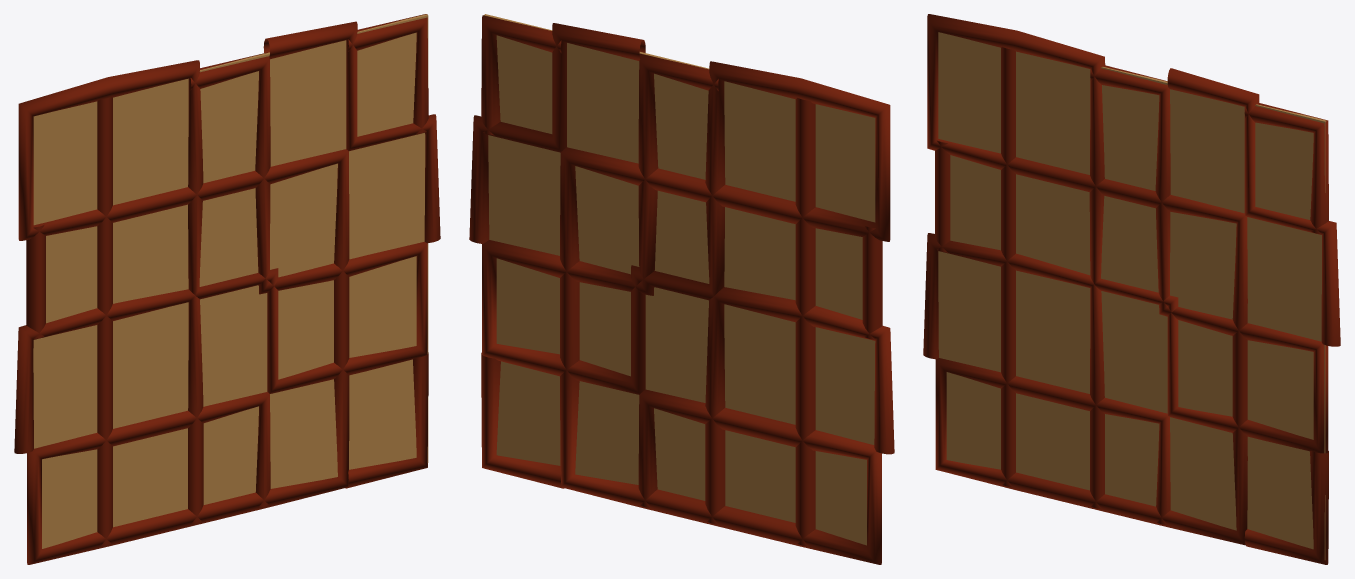
File: MSH_Paravent.fbx
The picture shows the model from 3 angles, left to right: view 1: azimuth 30°, elevation 25°; view 2: azimuth 150°, elevation 25°; view 3: azimuth 330°, elevation 25°; orthographic projection. The views are drawn at different scales.
Parts seen in each view (by area): view 1: GrandParavent_low; view 2: GrandParavent_low; view 3: GrandParavent_low.
Part boxes in pixels (x1=…): GrandParavent_low: x1=14, y1=14, x2=440, y2=564; GrandParavent_low: x1=469, y1=14, x2=894, y2=564; GrandParavent_low: x1=923, y1=14, x2=1340, y2=564.
Bounding box in the file's own units: 390 × 411 × 10.
